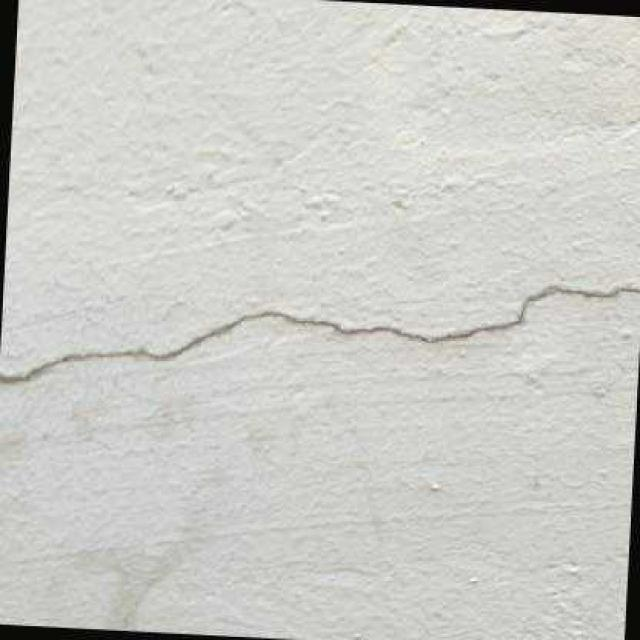D00: (0, 283, 640, 386)
